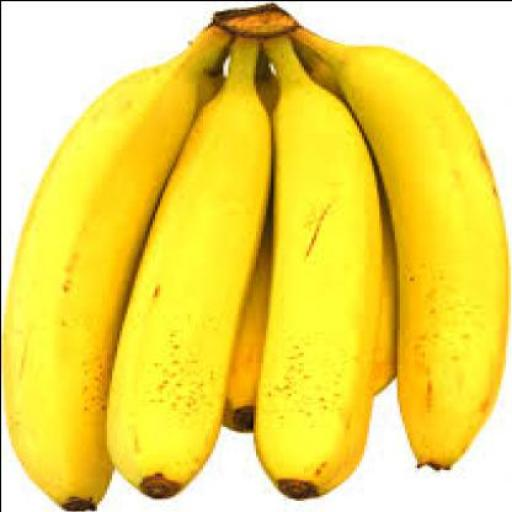biodegradable: (3, 2, 502, 510), (1, 44, 202, 511), (290, 23, 492, 467), (103, 40, 267, 494), (252, 26, 376, 496), (222, 183, 283, 426), (359, 154, 391, 391)
